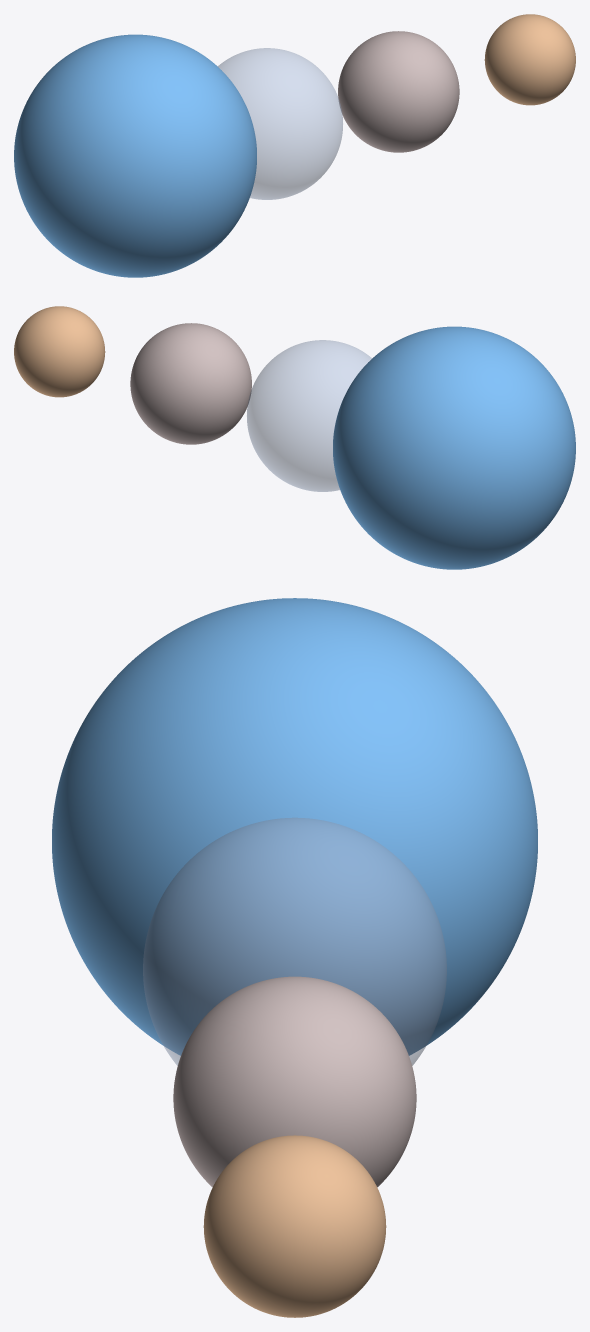
File: large-synthetic.glb
3 views of the same model, one above another, from view 1: azimuth 30°, elevation 25°; view 2: azimuth 150°, elevation 25°; view 3: azimuth 270°, elevation 25° (orthographic). The views are drawn at different scales.
Parts seen in each view (by area): view 1: Synthetic 1 mesh, Synthetic 2 mesh, Synthetic 3 mesh, Synthetic 4 mesh; view 2: Synthetic 1 mesh, Synthetic 2 mesh, Synthetic 3 mesh, Synthetic 4 mesh; view 3: Synthetic 1 mesh, Synthetic 2 mesh, Synthetic 3 mesh, Synthetic 4 mesh.
Boxes of the visible parts, left/top/right/bottom form: Synthetic 1 mesh: left=14, top=34, right=256, bottom=277; Synthetic 2 mesh: left=218, top=48, right=342, bottom=199; Synthetic 3 mesh: left=338, top=31, right=459, bottom=152; Synthetic 4 mesh: left=484, top=14, right=575, bottom=105; Synthetic 1 mesh: left=333, top=326, right=575, bottom=569; Synthetic 2 mesh: left=247, top=340, right=371, bottom=491; Synthetic 3 mesh: left=130, top=323, right=251, bottom=444; Synthetic 4 mesh: left=14, top=306, right=105, bottom=397; Synthetic 1 mesh: left=52, top=598, right=537, bottom=1055; Synthetic 2 mesh: left=143, top=817, right=446, bottom=1065; Synthetic 3 mesh: left=173, top=976, right=416, bottom=1187; Synthetic 4 mesh: left=203, top=1135, right=386, bottom=1317.
Size of the model in its own units: 0.41 by 0.16 by 0.16.
